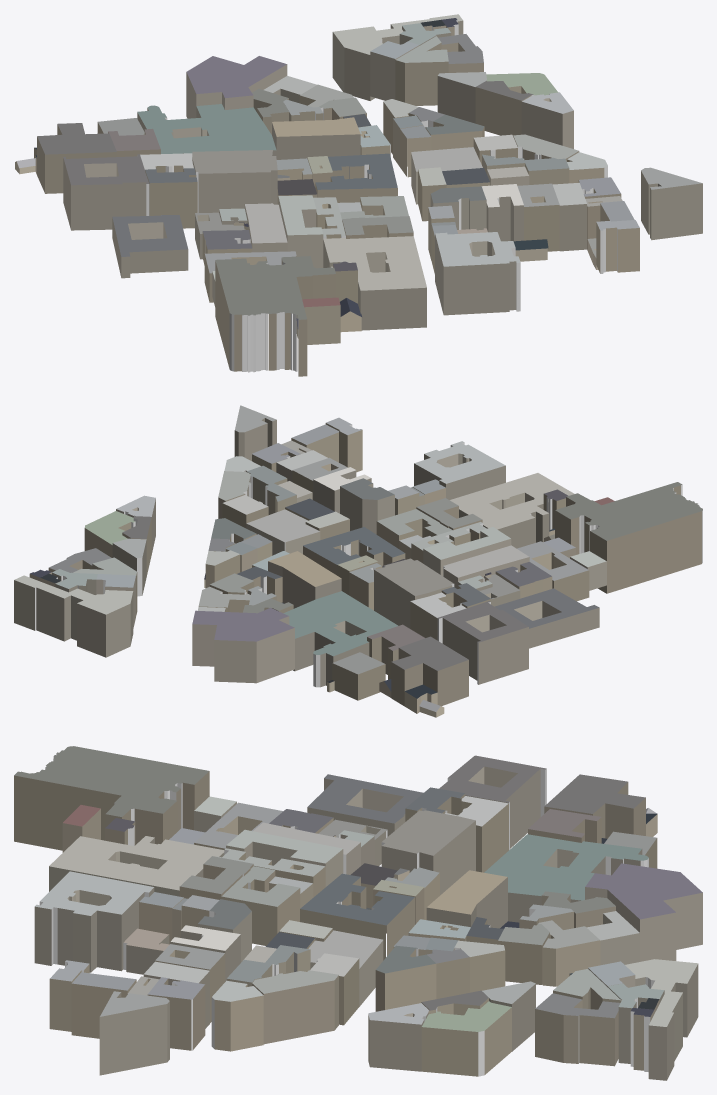
3 renders of one model, top to bottom at view 1: azimuth 30°, elevation 25°; view 2: azimuth 150°, elevation 25°; view 3: azimuth 270°, elevation 25°, orthographic. The views are drawn at different scales.
Parts seen in each view (by area): view 1: tuile; view 2: tuile; view 3: tuile.
Boxes of the visible parts, <box> form: tuile: <box>15,14,702,376</box>; tuile: <box>14,405,702,717</box>; tuile: <box>14,746,702,1080</box>.
Bounding box in the file's own units: 271 × 32.07 × 285.
